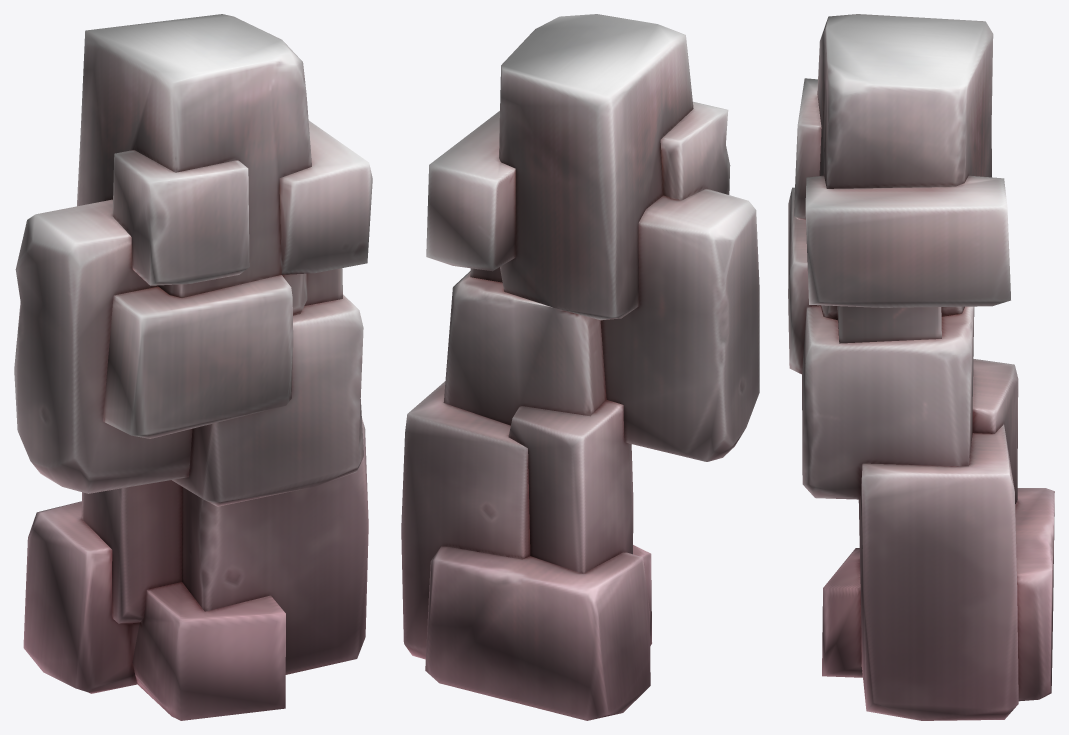
File: SM_Gem_Halite_001.fbx
The picture shows the model from 3 angles, left to right: view 1: azimuth 30°, elevation 25°; view 2: azimuth 150°, elevation 25°; view 3: azimuth 270°, elevation 25°; orthographic projection. The views are drawn at different scales.
Visible parts, largest first — view 1: SM_Gem_Halite_001; view 2: SM_Gem_Halite_001; view 3: SM_Gem_Halite_001.
Part boxes in pixels (box(x1,y1,x2,y2)): SM_Gem_Halite_001: box(14, 14, 372, 720); SM_Gem_Halite_001: box(401, 14, 759, 720); SM_Gem_Halite_001: box(788, 14, 1054, 720).
Size of the model in its own units: 54.48 by 108 by 42.26.
